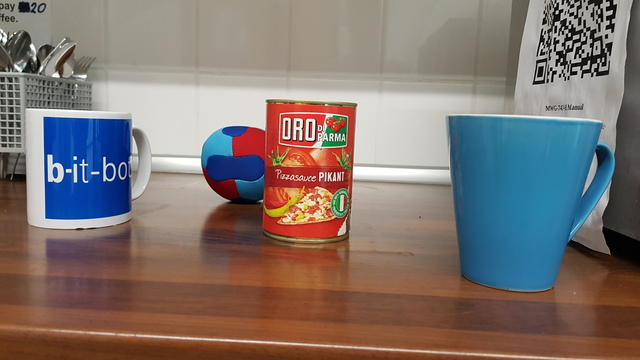005_tomato_soup_can: (263, 97, 360, 246)
025_mug: (441, 111, 617, 294), (22, 106, 153, 233)
057_racquetball: (197, 125, 271, 205)
